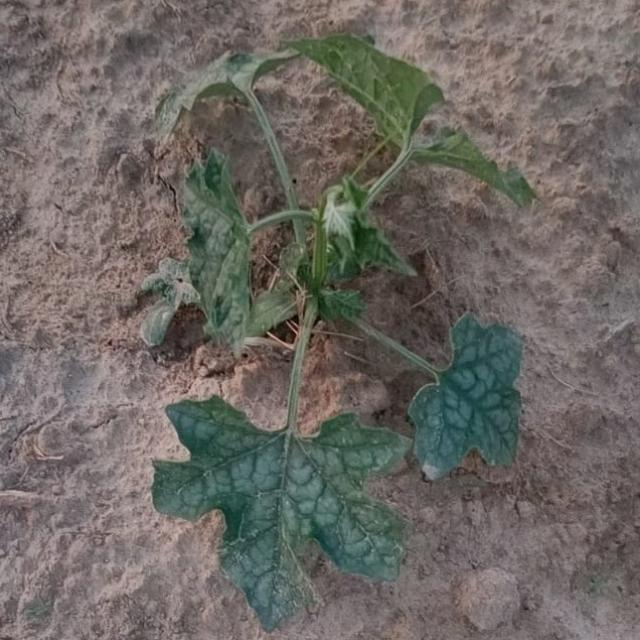plant: (141, 34, 536, 632)
